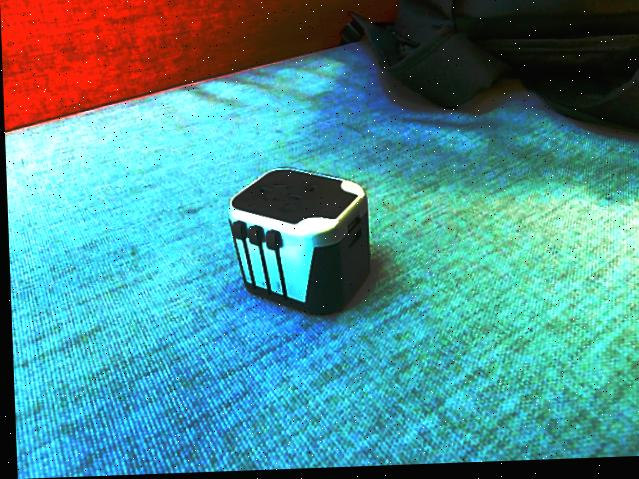adapter: (224, 167, 371, 320)
